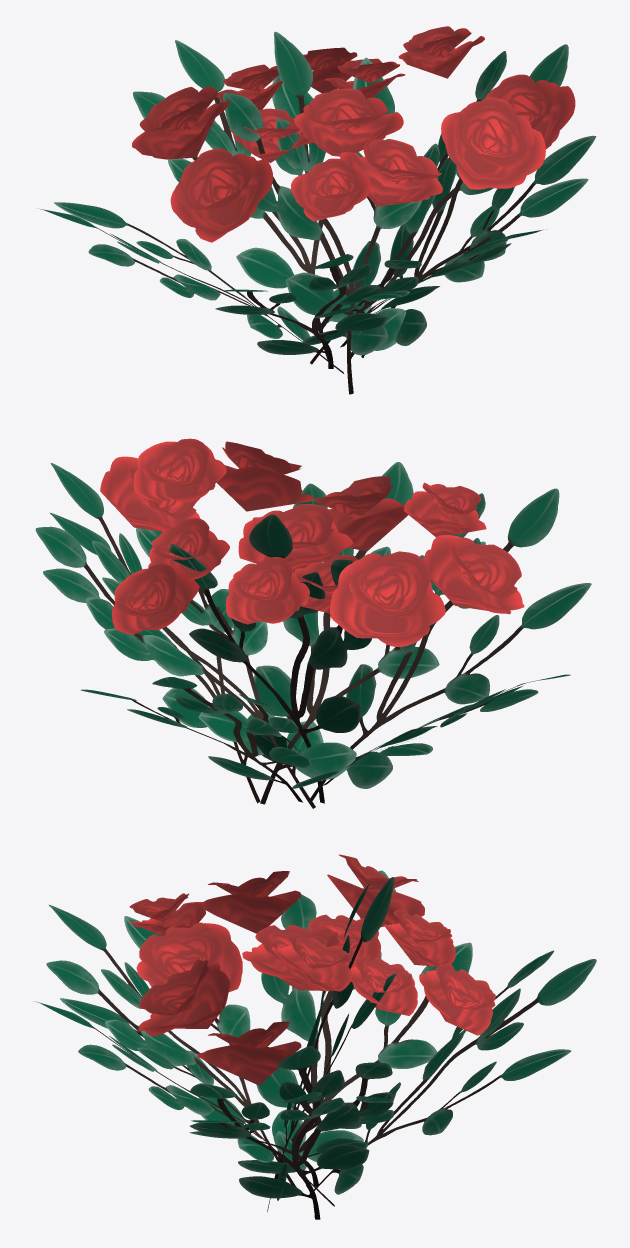
File: Rose_a_map.fbx
3 renders of one model, top to bottom at view 1: azimuth 30°, elevation 25°; view 2: azimuth 150°, elevation 25°; view 3: azimuth 270°, elevation 25°, orthographic. The views are drawn at different scales.
Parts seen in each view (by area): view 1: polySurface94; view 2: polySurface94; view 3: polySurface94.
Boxes of the visible parts, x1,y1,x2,y2 form: polySurface94: (38,26,596,394); polySurface94: (35,438,591,808); polySurface94: (34,854,596,1219).
Bounding box in the file's own units: 141 × 82.42 × 135.
Materials: 1 (1 with a texture image).
